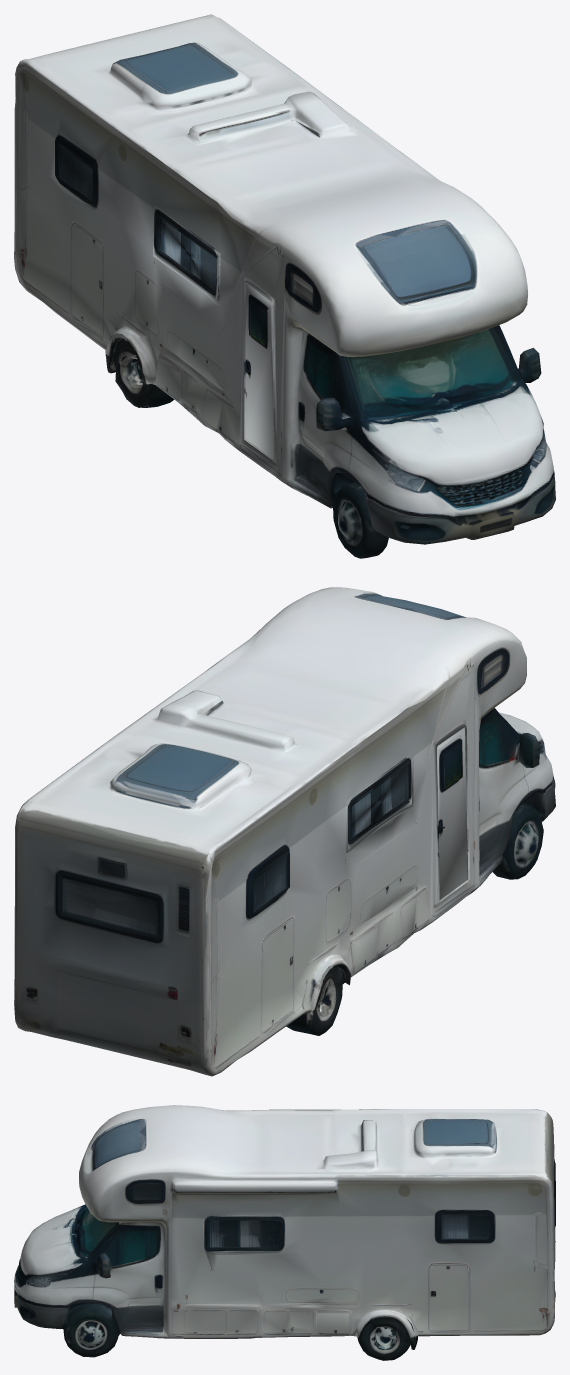
Rendered from motorhome.glb.
The picture shows the model from 3 angles, top to bottom: view 1: azimuth 30°, elevation 25°; view 2: azimuth 150°, elevation 25°; view 3: azimuth 270°, elevation 25°; orthographic projection. The views are drawn at different scales.
Visible parts, largest first — view 1: texture_pbr_20250901; view 2: texture_pbr_20250901; view 3: texture_pbr_20250901.
Boxes of the visible parts, x1,y1,x2,y2 form: texture_pbr_20250901: [14, 14, 555, 558]; texture_pbr_20250901: [14, 587, 555, 1076]; texture_pbr_20250901: [14, 1105, 555, 1360].
Size of the model in its own units: 0.6642 by 0.802 by 1.99.
Materials: 1 (1 with a texture image).
